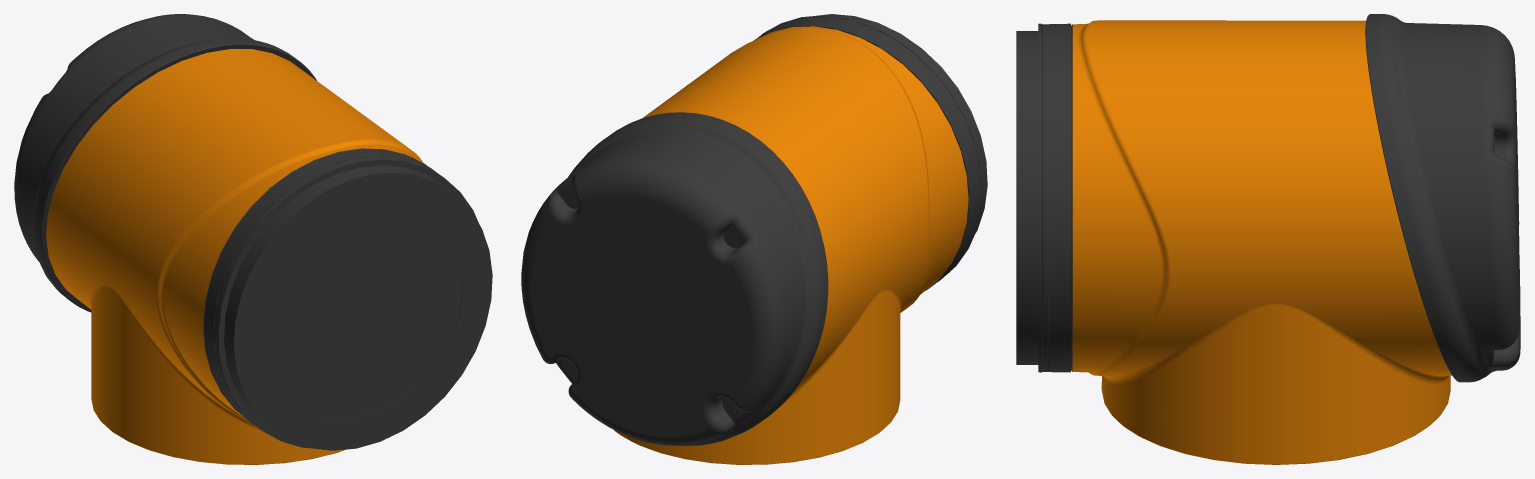
3 renders of one model, left to right at view 1: azimuth 30°, elevation 25°; view 2: azimuth 150°, elevation 25°; view 3: azimuth 270°, elevation 25°, orthographic. The views are drawn at different scales.
Parts seen in each view (by area): view 1: NONE; view 2: NONE; view 3: NONE.
Boxes of the visible parts, x1=… form: NONE: x1=14, y1=14, x2=492, y2=464; NONE: x1=521, y1=14, x2=987, y2=464; NONE: x1=1016, y1=14, x2=1520, y2=464.
Bounding box in the file's own units: 0.1035 × 0.1416 × 0.1118.
